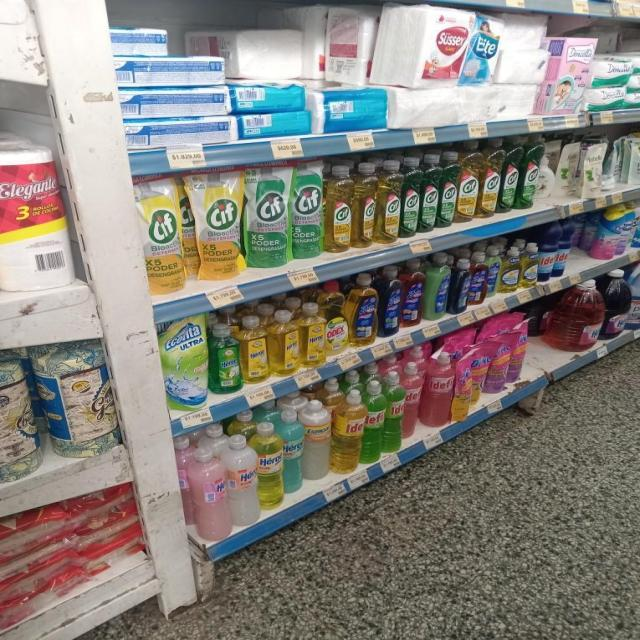cif_conc_bot_amarilla: (325, 165, 352, 254), (353, 162, 376, 248), (377, 159, 400, 244), (458, 140, 479, 222), (480, 138, 500, 217)
cif_conc_botella_verde: (402, 156, 420, 238), (421, 154, 439, 233), (520, 134, 538, 210), (440, 150, 457, 228), (502, 135, 519, 212)
cif_conc_sachet_amarillo: (190, 169, 242, 280), (142, 174, 185, 294)
cif_conc_sachet_verde: (245, 163, 289, 269), (291, 162, 323, 260)
heroe: (269, 309, 299, 377), (242, 314, 268, 384), (301, 302, 325, 367)
magistral_con_amarillo: (500, 246, 520, 293), (520, 242, 538, 288)
